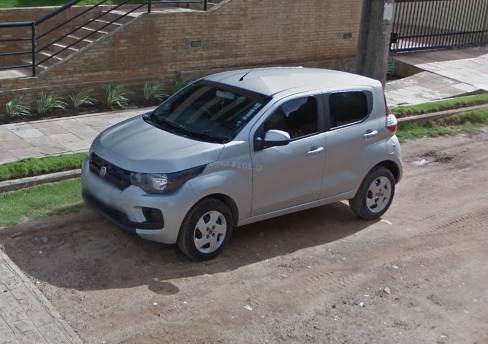car: (78, 63, 406, 263)
